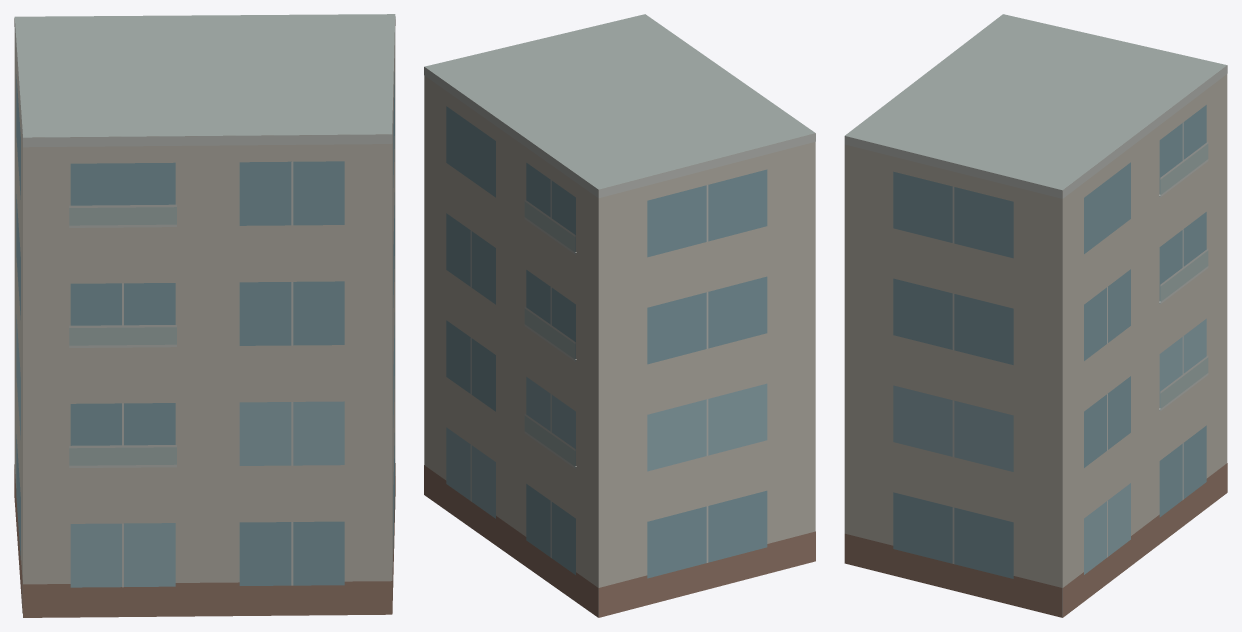
Rendered from survey-upis-32987621.glb.
The picture shows the model from 3 angles, left to right: view 1: azimuth 30°, elevation 25°; view 2: azimuth 150°, elevation 25°; view 3: azimuth 270°, elevation 25°; orthographic projection. The views are drawn at different scales.
Visible parts, largest first — view 1: survey-upis-32987621.tmp; view 2: survey-upis-32987621.tmp; view 3: survey-upis-32987621.tmp.
Boxes of the visible parts, x1=… form: survey-upis-32987621.tmp: x1=14, y1=14, x2=395, y2=617; survey-upis-32987621.tmp: x1=424, y1=14, x2=815, y2=617; survey-upis-32987621.tmp: x1=844, y1=14, x2=1227, y2=617.
Bounding box in the file's own units: 10.71 × 12.1 × 9.82.
